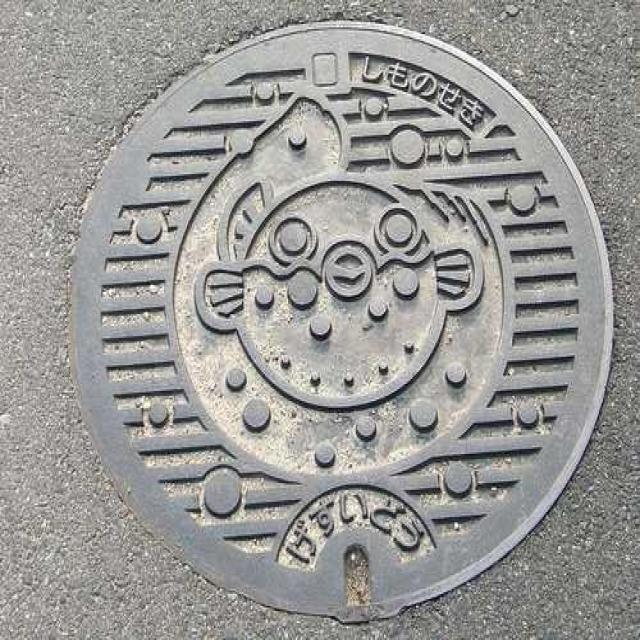manhole: (70, 22, 616, 626)
